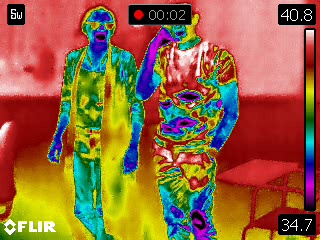human: (138, 4, 241, 239), (47, 4, 145, 240)
